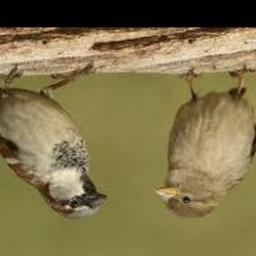Sparrow: (0, 65, 107, 219), (152, 63, 256, 218)
